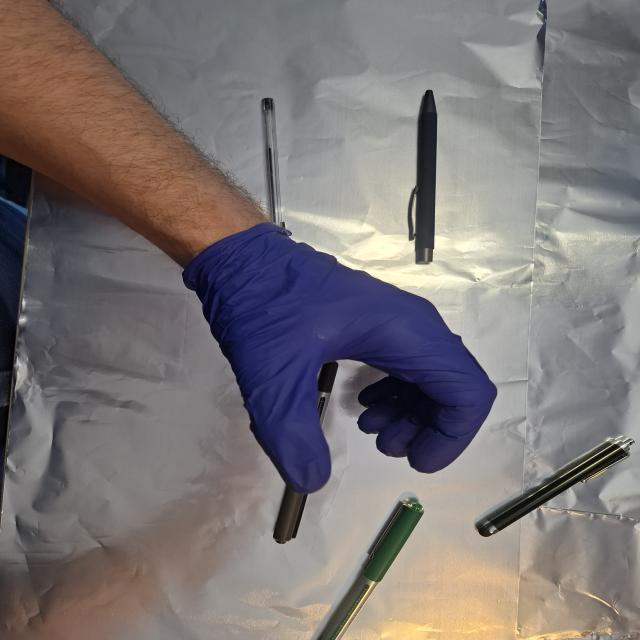glove_on: (184, 221, 502, 497)
